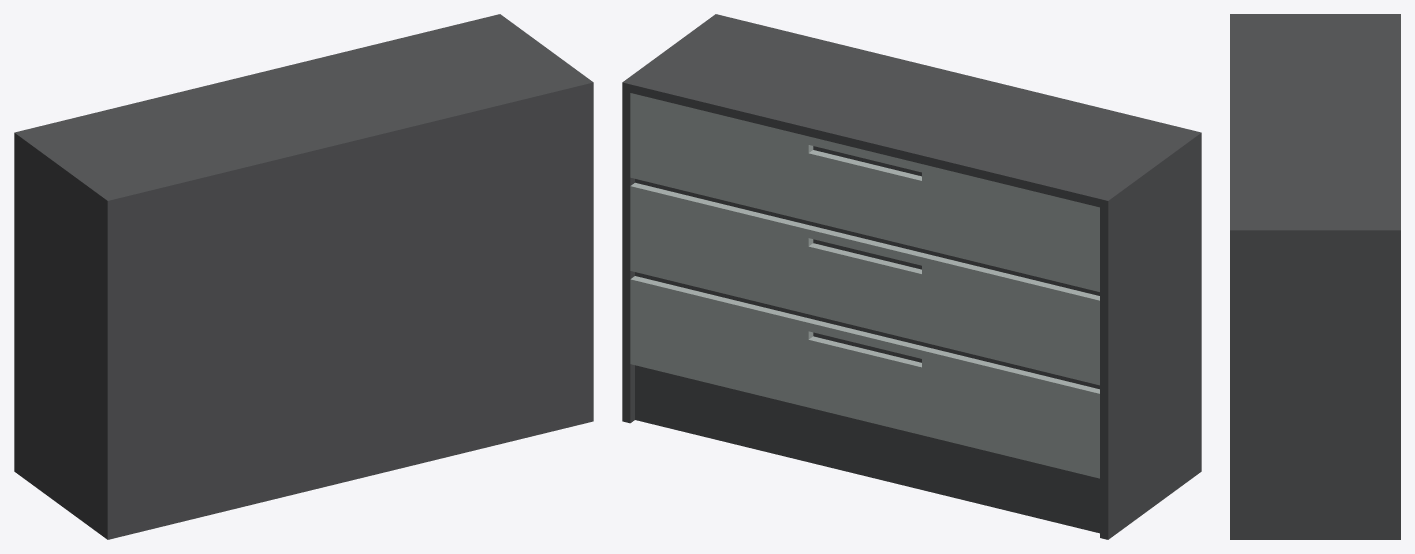
The model's file is file_cabinet_01.glb.
3 views of the same model, side by side, from view 1: azimuth 30°, elevation 25°; view 2: azimuth 150°, elevation 25°; view 3: azimuth 270°, elevation 25° (orthographic). The views are drawn at different scales.
Parts seen in each view (by area): view 1: Untitled; view 2: Untitled; view 3: Untitled.
Part boxes in pixels (x1,y1,x2,y2): Untitled: [14, 14, 593, 539]; Untitled: [622, 14, 1201, 539]; Untitled: [1230, 14, 1400, 539].
Bounding box in the file's own units: 1.8 × 1.2 × 0.6.
1 material, 1 textured.
